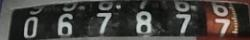digits: (56, 13, 73, 35), (135, 10, 151, 33), (96, 12, 112, 33), (175, 13, 191, 33), (23, 16, 38, 37), (213, 18, 230, 36)
